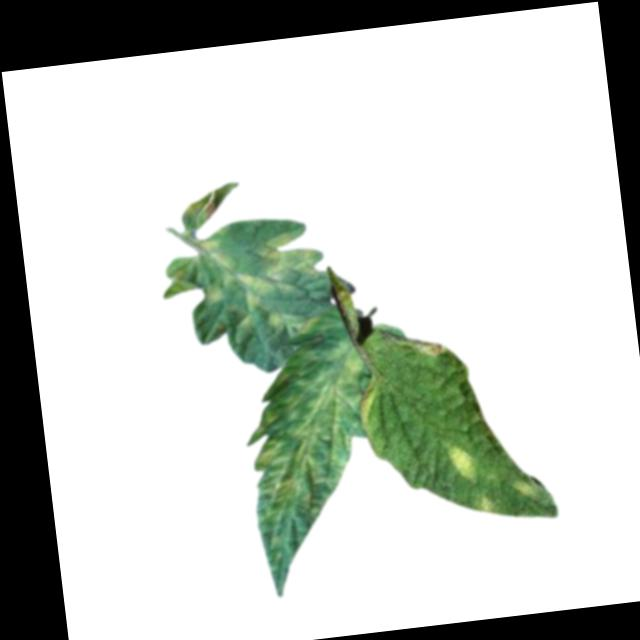Leaf_Mold: (232, 332, 392, 600), (201, 227, 331, 349), (392, 334, 449, 361), (441, 443, 476, 480), (510, 475, 540, 507)
